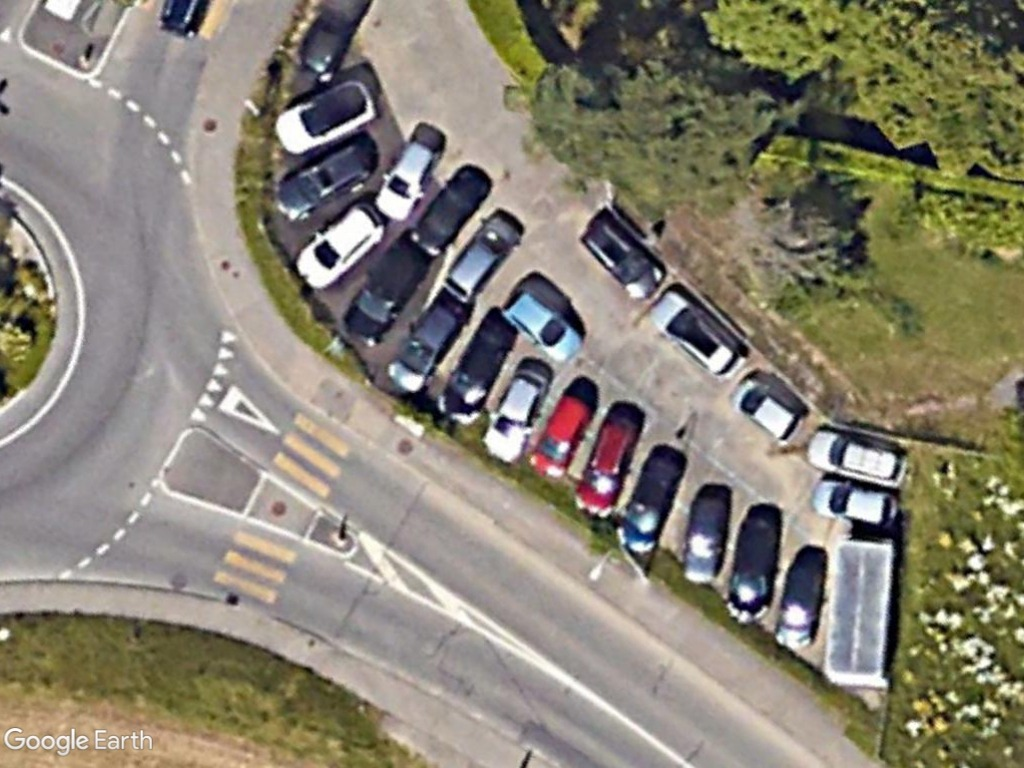car: (270, 135, 383, 226), (334, 235, 429, 338), (375, 292, 470, 394), (645, 287, 745, 381), (273, 73, 378, 158), (292, 199, 390, 289), (568, 404, 642, 516), (441, 206, 525, 304), (803, 421, 911, 492), (476, 360, 551, 462), (527, 385, 596, 480), (500, 288, 583, 364), (370, 135, 439, 219), (808, 471, 900, 533), (731, 372, 805, 449), (771, 551, 829, 649), (677, 489, 732, 587)
